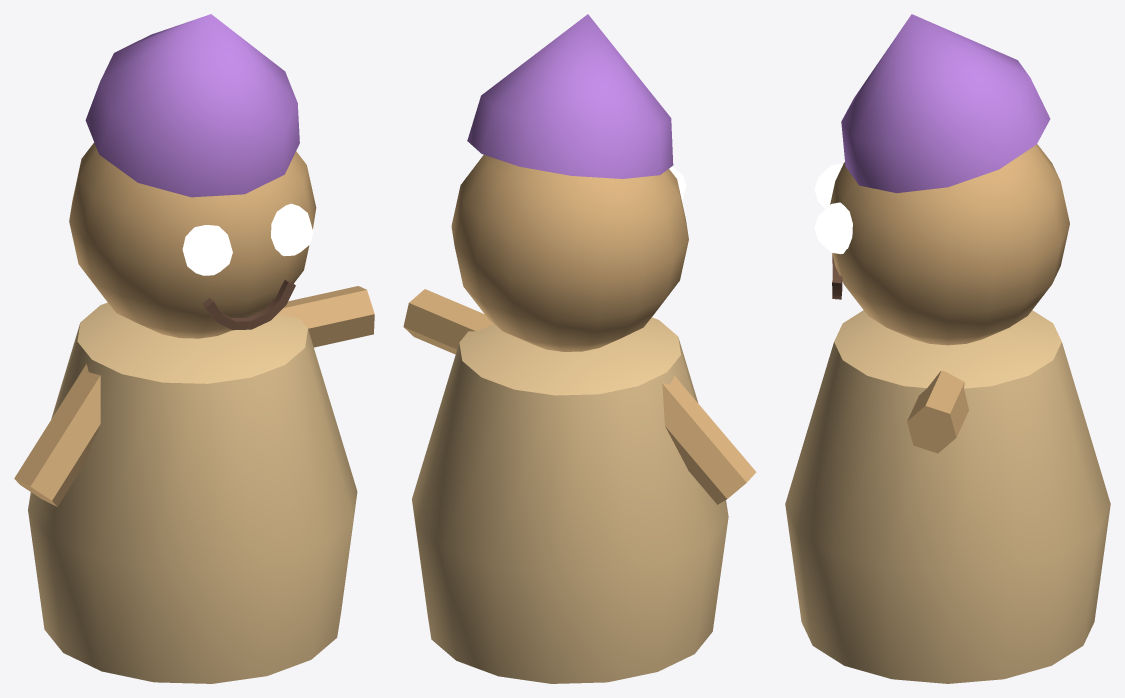
The model's file is CreepyDoll_A.fbx.
3 renders of one model, left to right at view 1: azimuth 30°, elevation 25°; view 2: azimuth 150°, elevation 25°; view 3: azimuth 270°, elevation 25°, orthographic. The views are drawn at different scales.
Parts seen in each view (by area): view 1: CreepyDoll_A; view 2: CreepyDoll_A; view 3: CreepyDoll_A.
Boxes of the visible parts, x1,y1,x2,y2 form: CreepyDoll_A: (14,14,374,683); CreepyDoll_A: (403,14,756,683); CreepyDoll_A: (785,14,1110,683).
Size of the model in its own units: 2.43 by 4.12 by 2.
